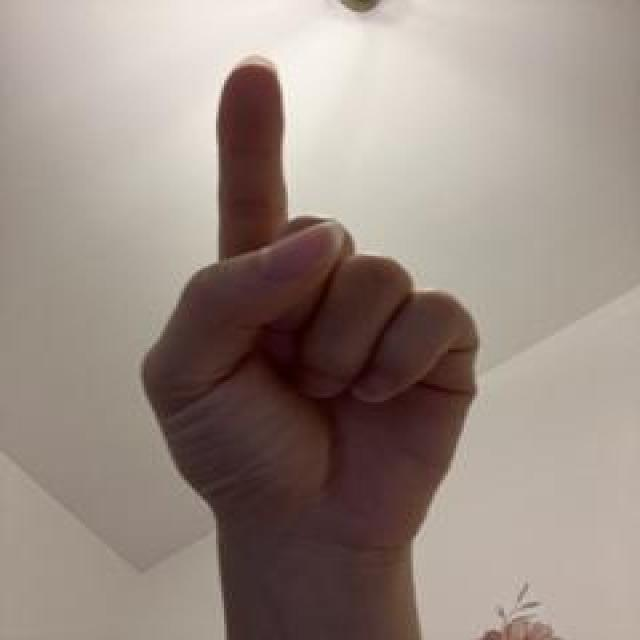Z: (135, 53, 484, 561)
